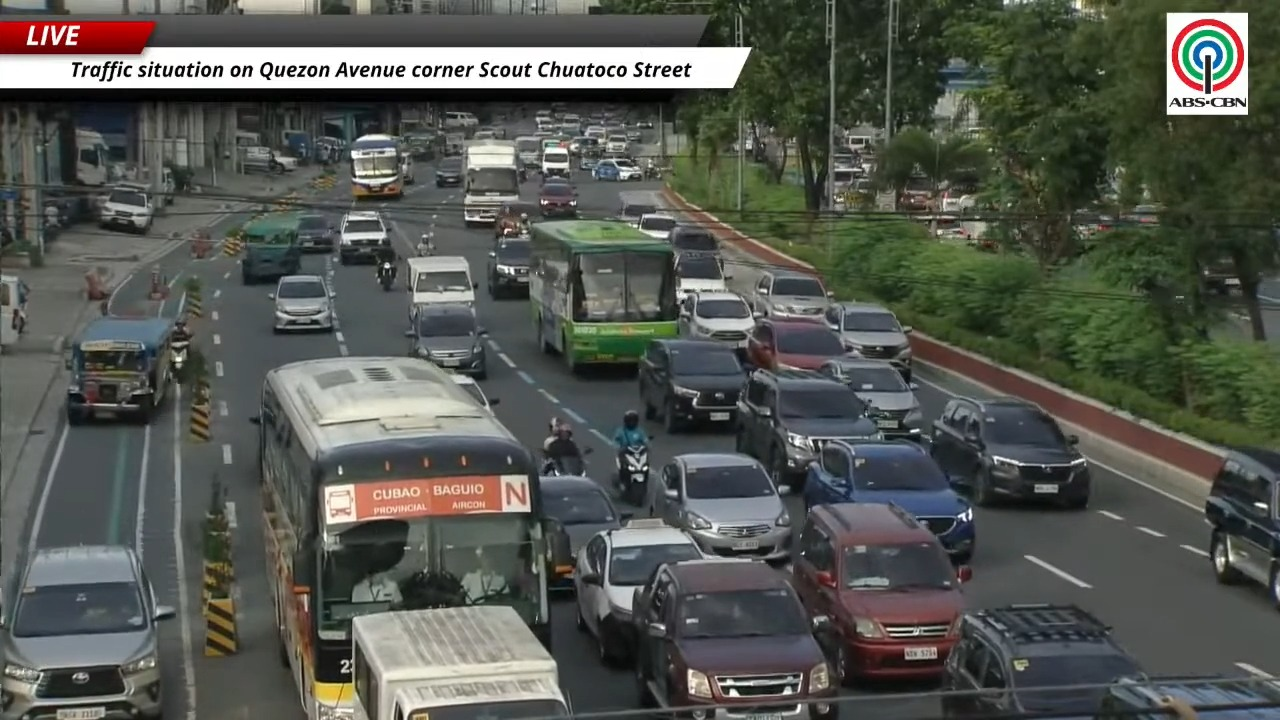bus: (253, 357, 567, 719), (529, 220, 677, 371), (349, 134, 403, 198)
car: (633, 558, 838, 719), (792, 502, 971, 683), (0, 545, 175, 719), (940, 604, 1142, 717), (803, 441, 975, 564), (573, 518, 702, 664), (929, 397, 1090, 508), (735, 369, 881, 488), (649, 452, 791, 562), (1204, 447, 1279, 606), (638, 339, 744, 433), (819, 357, 924, 440), (1093, 675, 1279, 719), (540, 475, 626, 555), (824, 303, 911, 380), (405, 303, 486, 379), (746, 318, 846, 369), (679, 292, 754, 347), (748, 270, 832, 319), (268, 275, 333, 332), (667, 224, 730, 277), (486, 237, 530, 299), (339, 211, 390, 264), (99, 185, 154, 233), (674, 254, 727, 296), (450, 373, 499, 410), (493, 201, 540, 238), (297, 213, 336, 252), (538, 183, 577, 218), (616, 191, 657, 224), (592, 158, 642, 181), (636, 212, 677, 240), (435, 157, 463, 187), (578, 143, 600, 171), (605, 131, 630, 153), (540, 175, 572, 186), (472, 128, 498, 140), (569, 136, 584, 153), (626, 129, 642, 143), (635, 119, 653, 128)
motorcycle: (616, 445, 649, 505), (540, 448, 591, 476), (170, 340, 189, 374), (378, 262, 393, 291), (416, 233, 434, 256)
truck: (350, 605, 569, 719), (463, 139, 521, 227), (75, 129, 109, 186)
